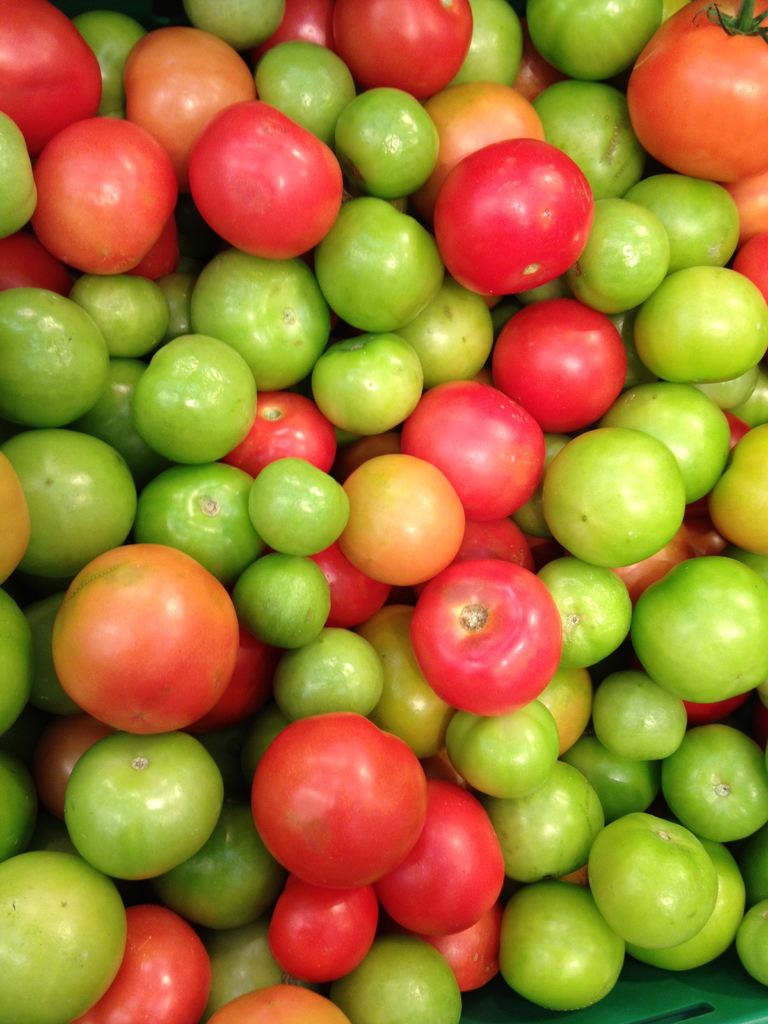Tomato: (0, 0, 767, 1023), (441, 122, 608, 281)
